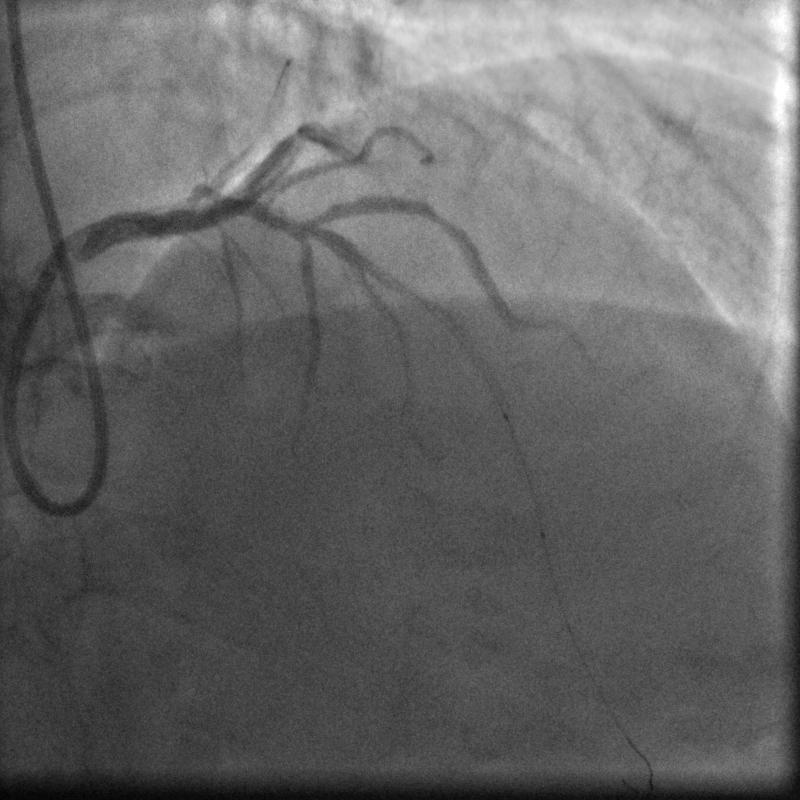Stenosis: (417, 195, 459, 233)
